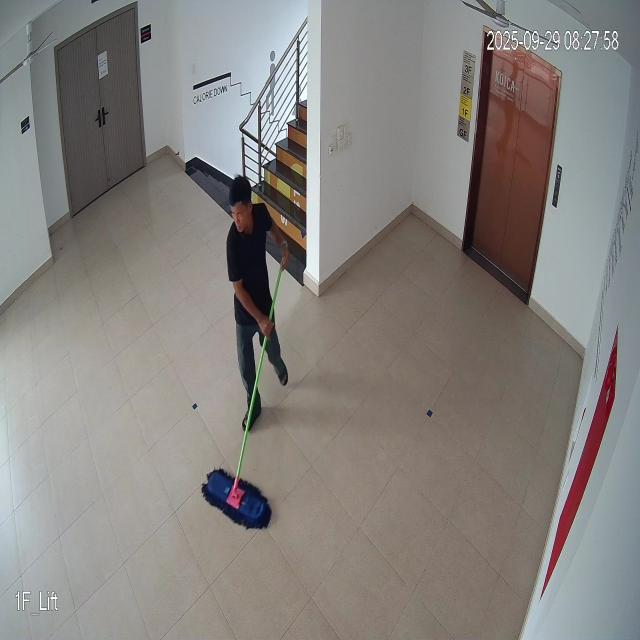face: (226, 171, 256, 239)
